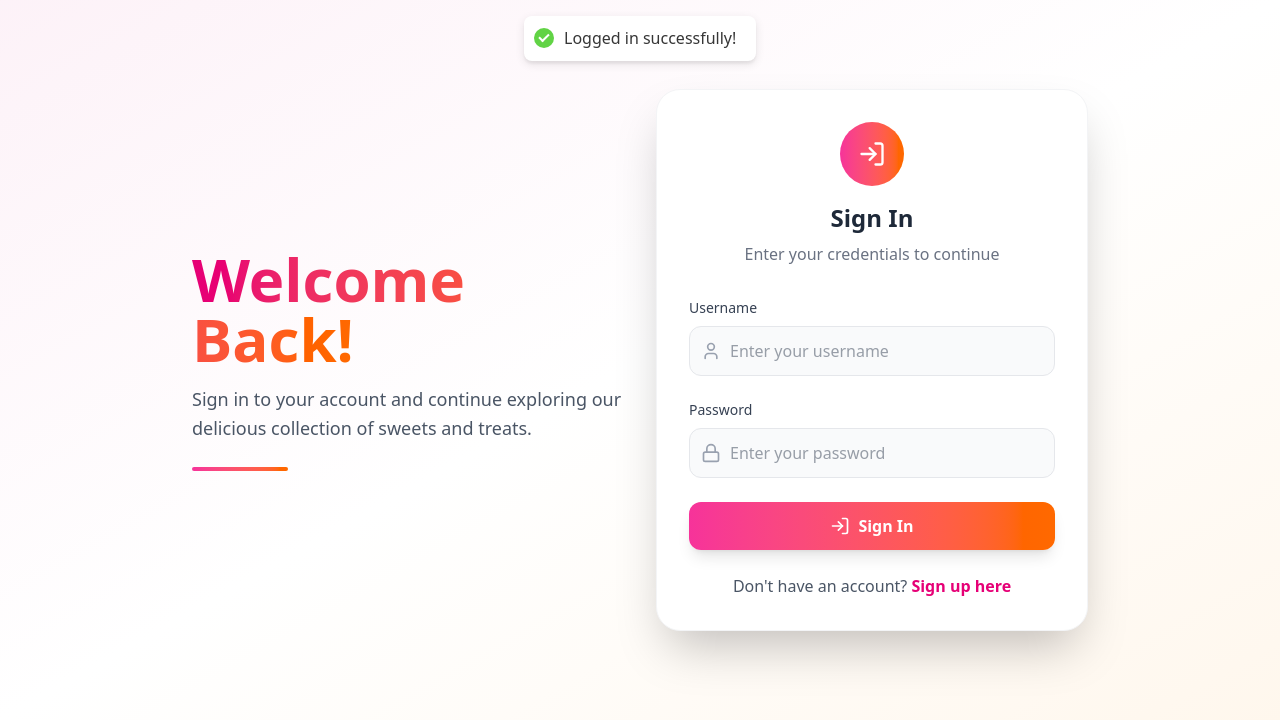
LoginPage › should show loading state during submission
Type "testuser" into the field with placeholder "Enter your username" at (872, 351), box [689,326,1055,376]
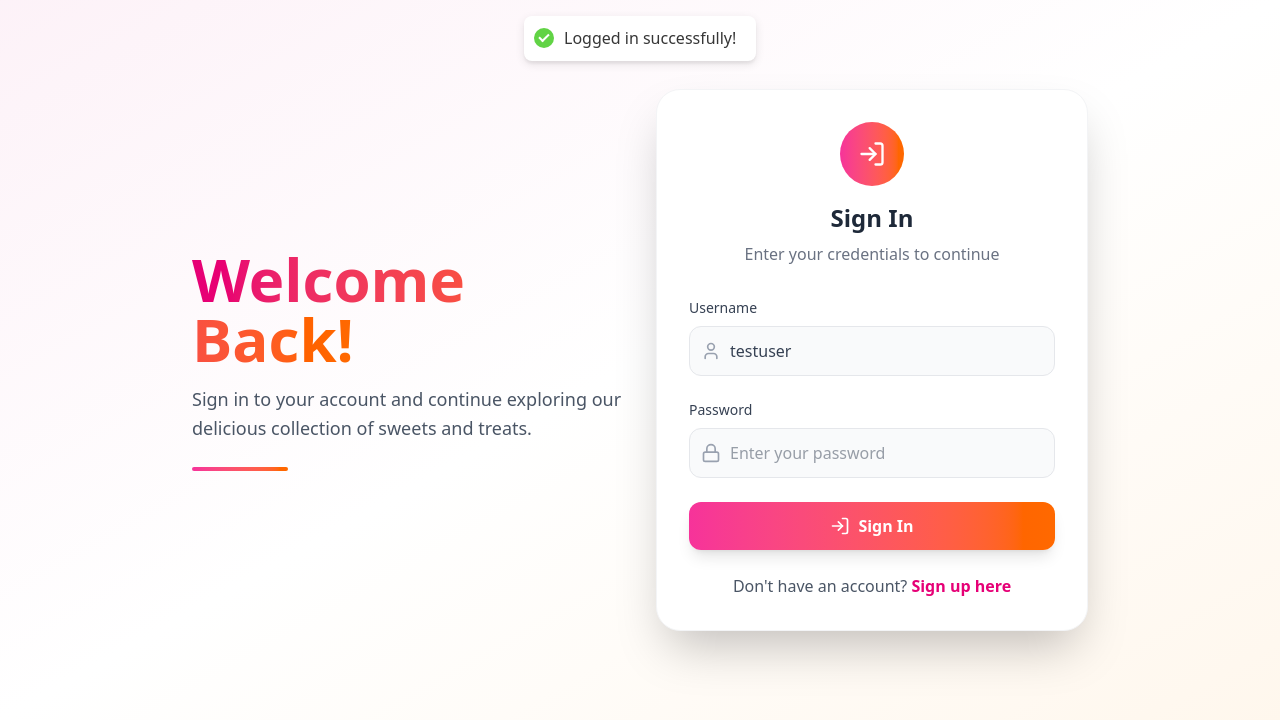
Type "password123" into the password field with placeholder "Enter your password" at (872, 453), box [689,428,1055,478]
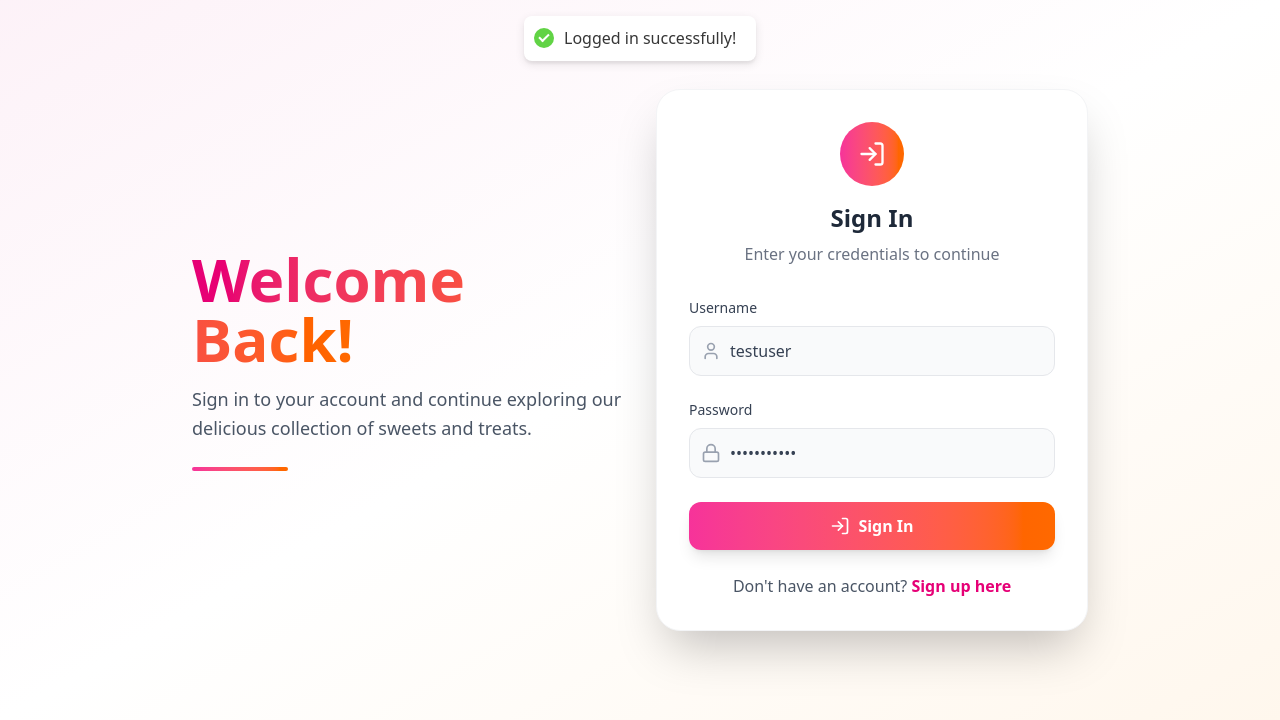
Click the button "Sign In" at (872, 526), box [689,502,1055,550]
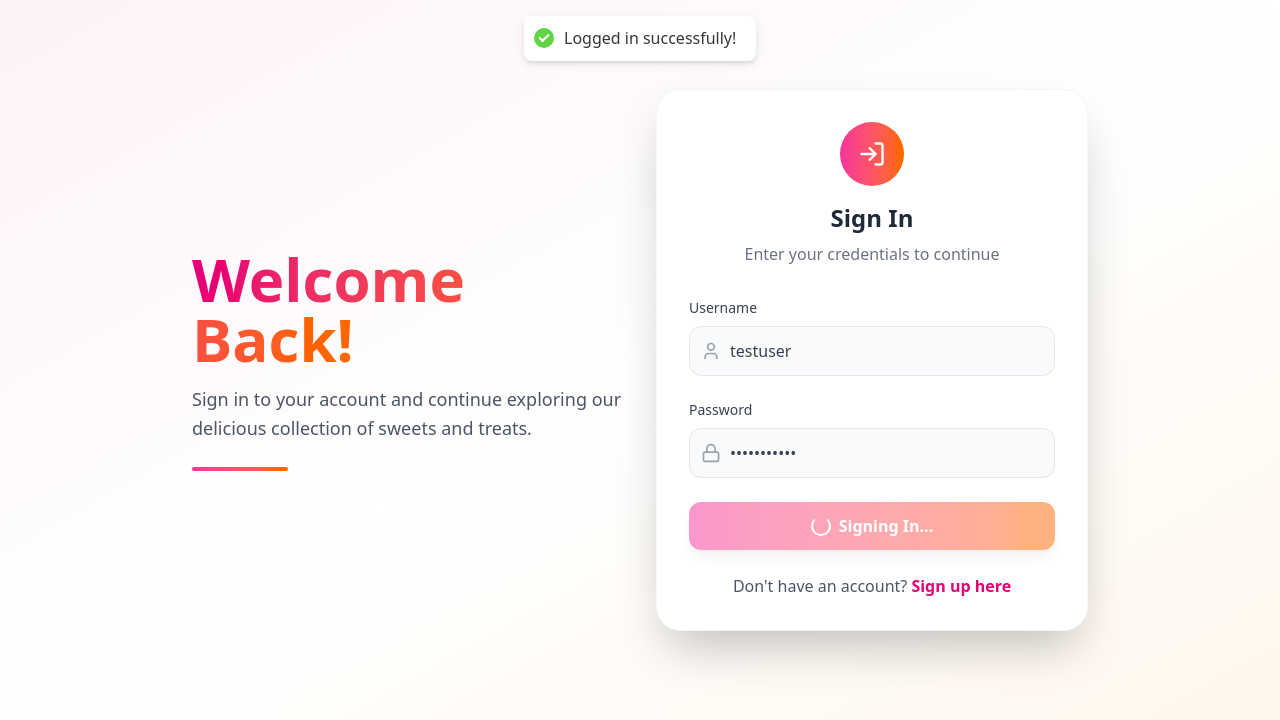
Result: the text "Signing In..." is shown at [811,515,933,537]
Result: the button named "sign in" is disabled at [689,502,1055,550]
